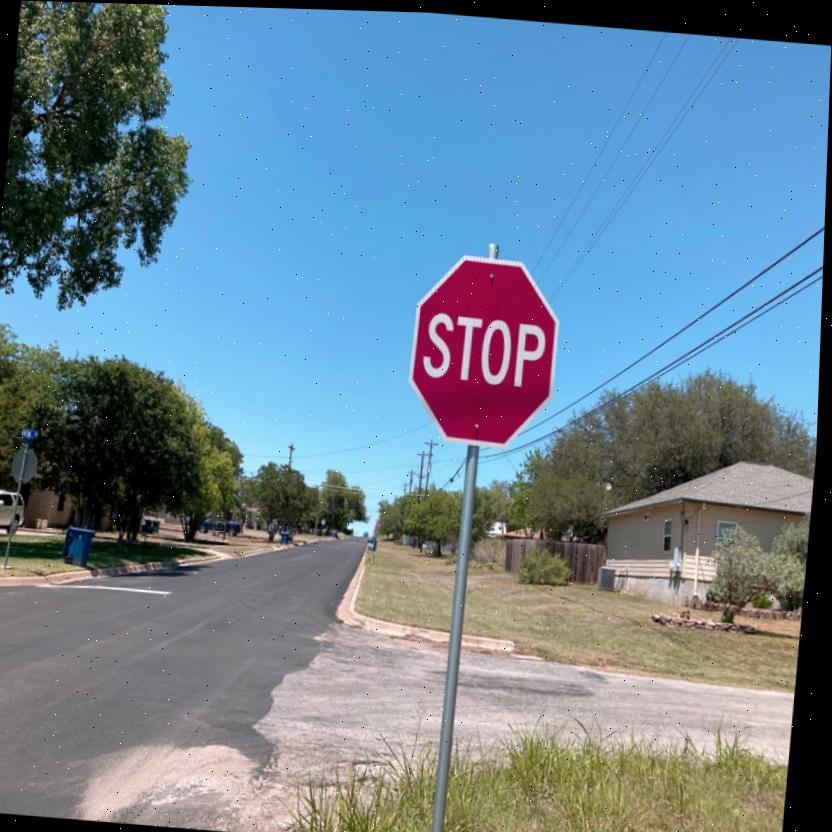Pole: (437, 443, 485, 832)
Sign: (407, 249, 567, 448)
